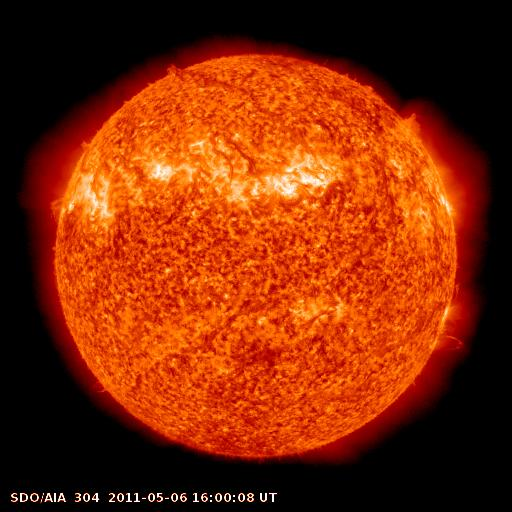prominence: (395, 97, 433, 145), (35, 188, 76, 224), (156, 55, 197, 90), (69, 131, 97, 158)
